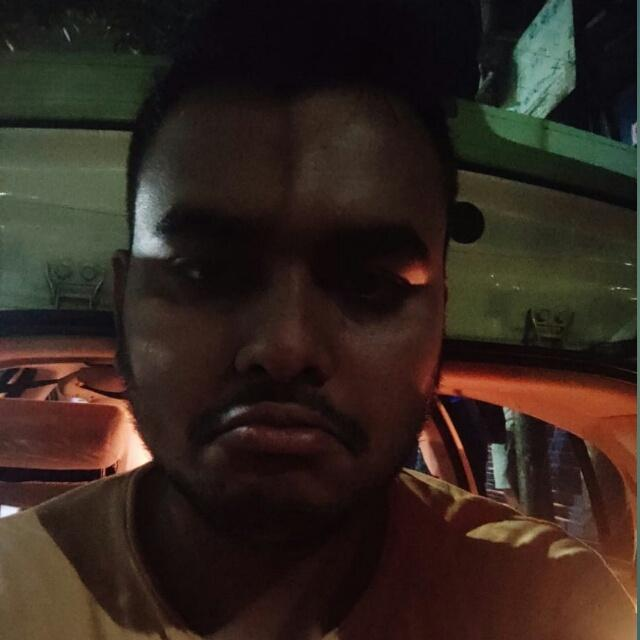Sad: (103, 73, 475, 564)
